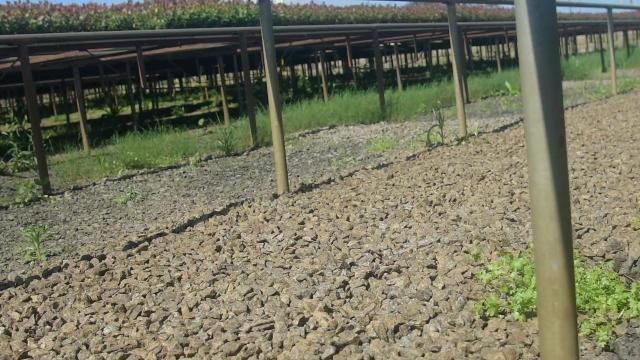MalezaMontesDelPlata: (572, 252, 640, 339), (475, 249, 536, 314), (1, 106, 40, 204), (11, 220, 54, 261), (204, 120, 240, 158), (426, 110, 452, 153)
